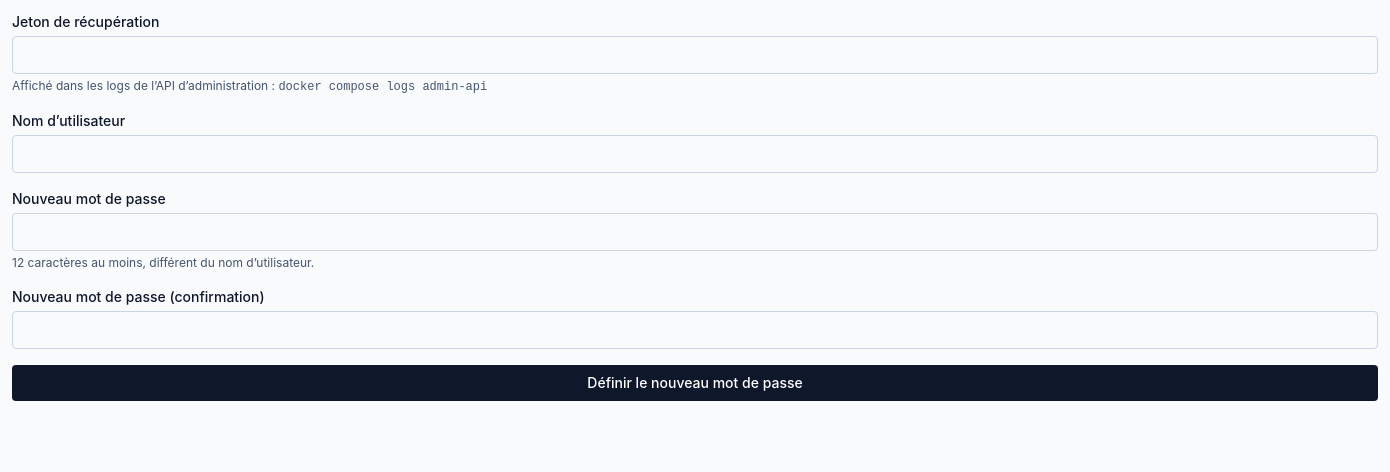
Test case: RecoveryForm › translates the errors of the recovery
Type "recovery-token" into the field labelled "Jeton de récupération" at (695, 55), box x1=12 y1=36 x2=1378 y2=74
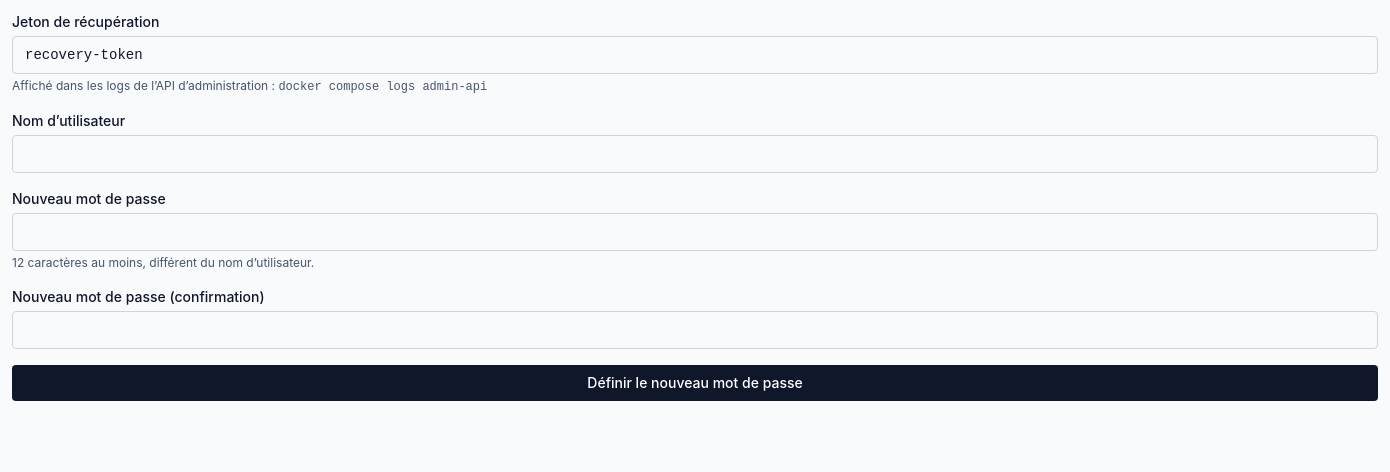
Type "alice" into the field labelled "Nom d’utilisateur" at (695, 154), box x1=12 y1=135 x2=1378 y2=173
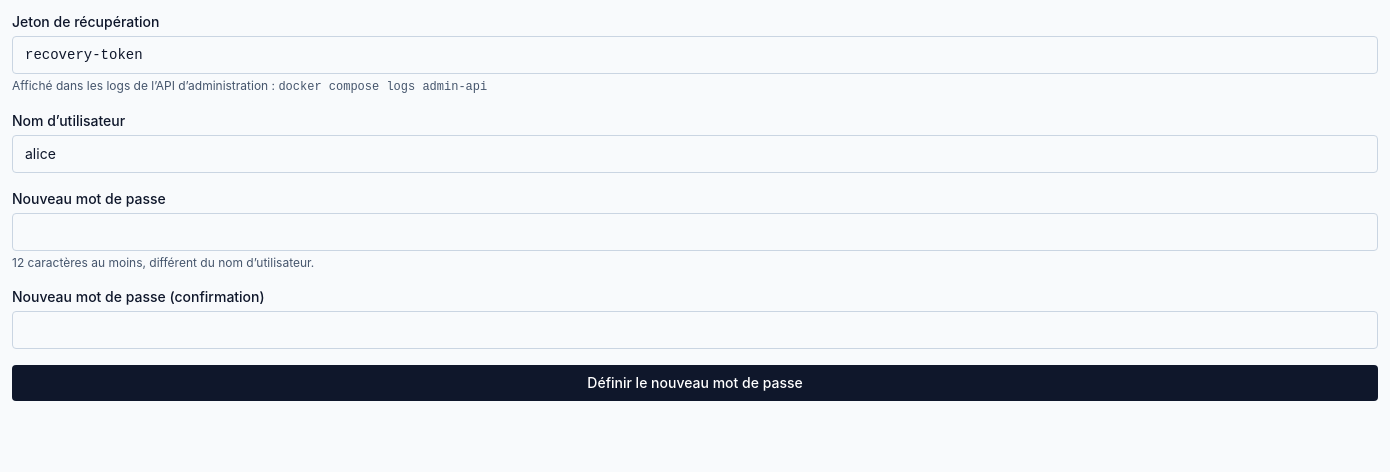
Type "correct horse battery" into the password field labelled "Nouveau mot de passe" at (695, 232), box x1=12 y1=213 x2=1378 y2=251
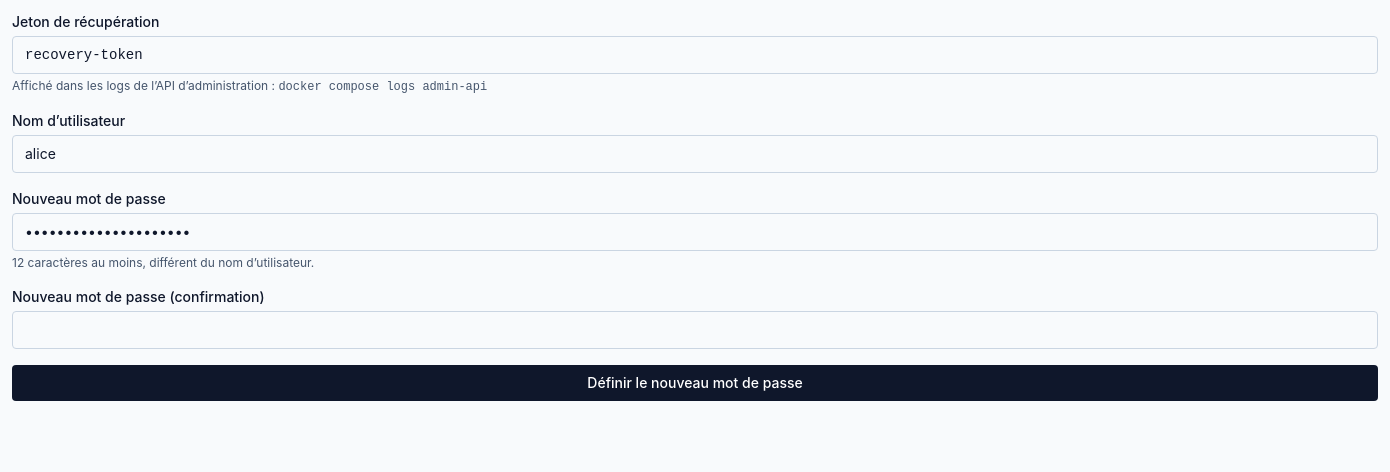
Type "correct horse battery" into the password field labelled "Nouveau mot de passe (confirmation)" at (695, 330), box x1=12 y1=311 x2=1378 y2=349
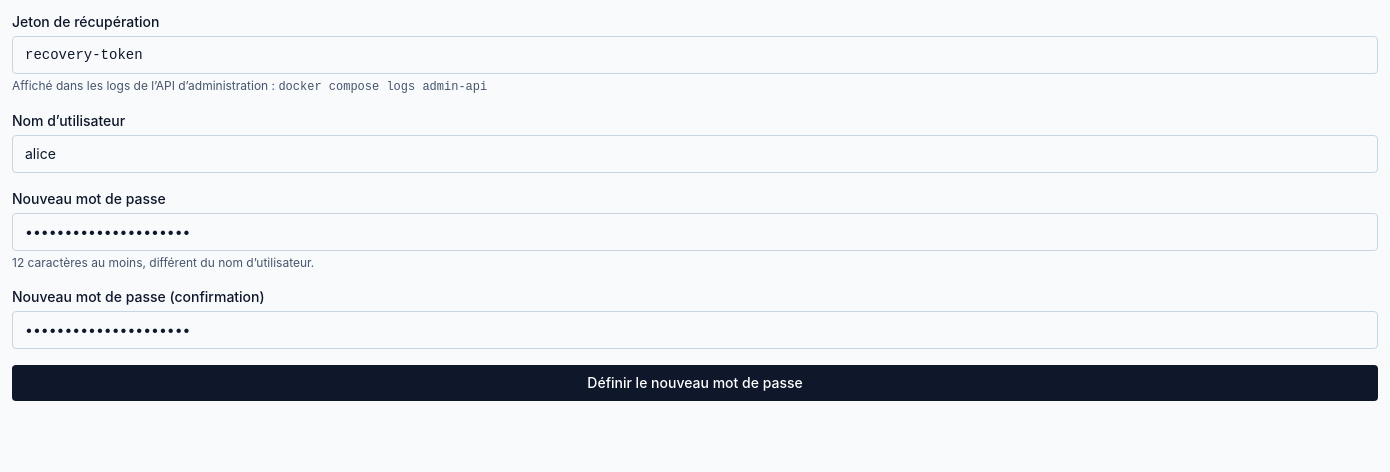
Click the button "Définir le nouveau mot de passe" at (695, 383), box x1=12 y1=365 x2=1378 y2=401
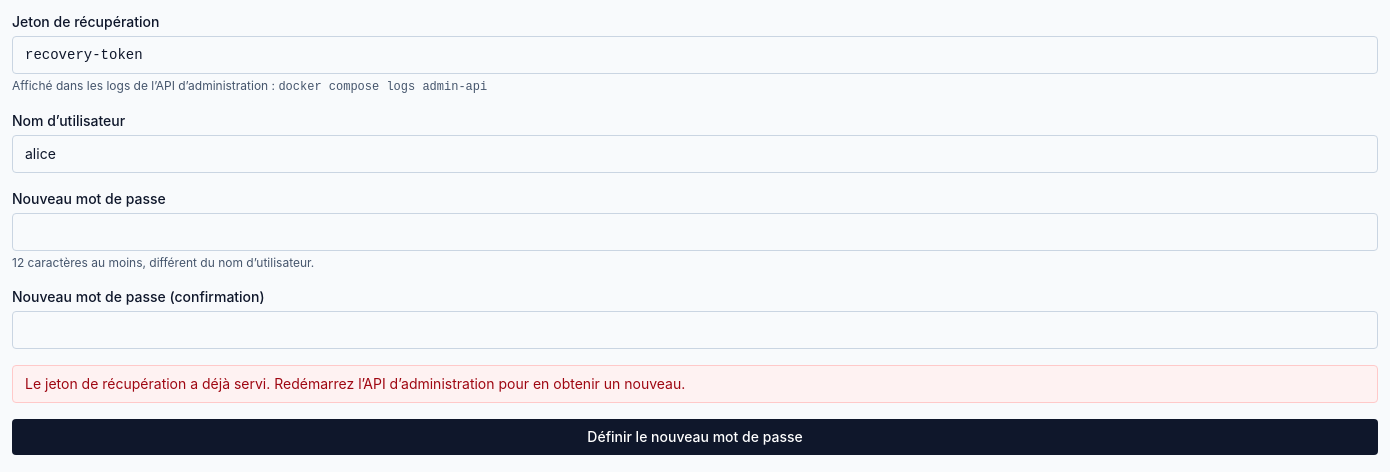
expect the message shows "Le jeton de récupération a déjà servi.": met, box x1=25 y1=375 x2=685 y2=392
